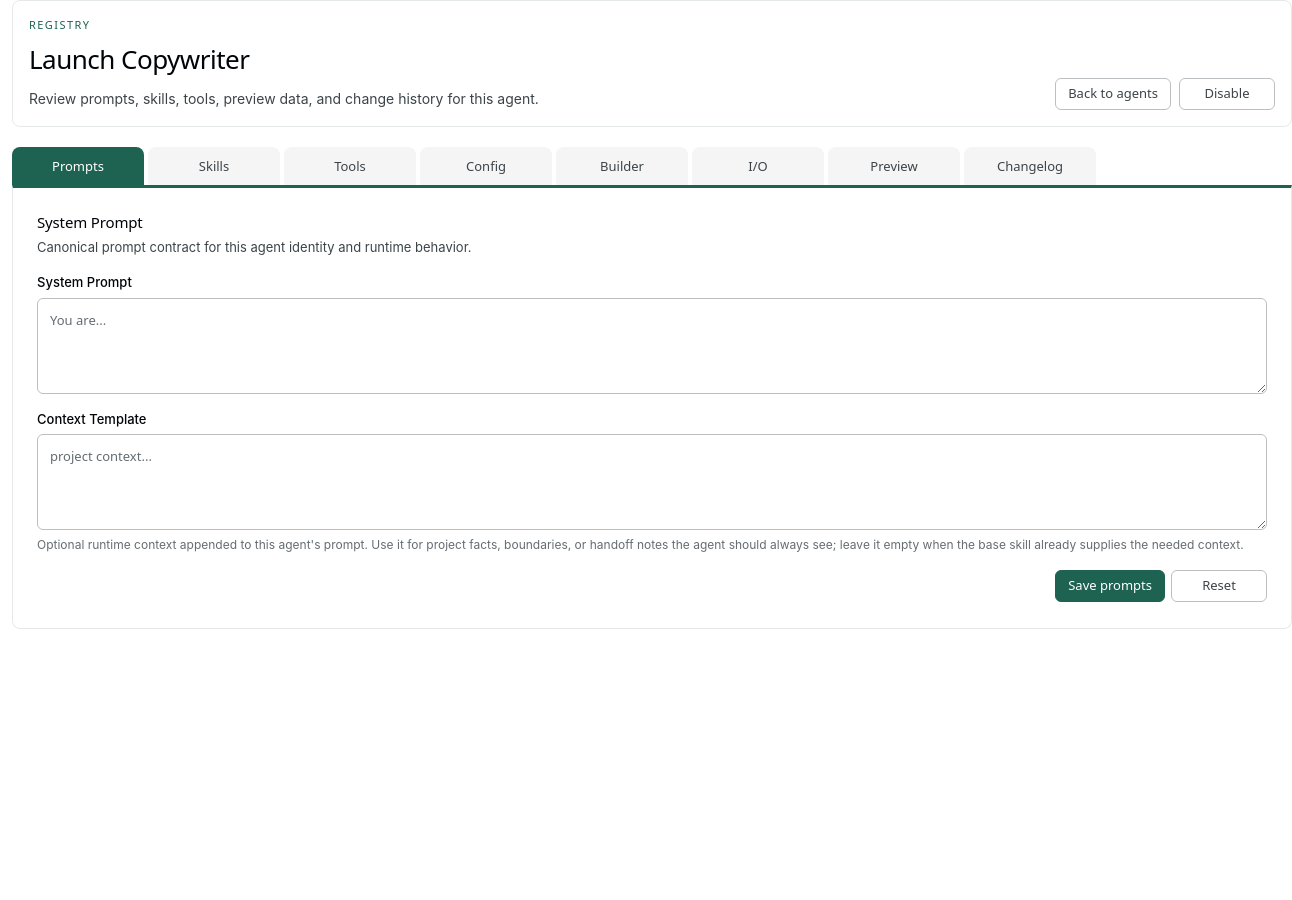
Test: RegistryAgentsDetailPage › persists agent skills through relationship endpoints
Expected: the heading "Launch Copywriter" is shown, [29,41,249,77]
Click the tab "Skills" at (214, 166), box [148,147,280,185]
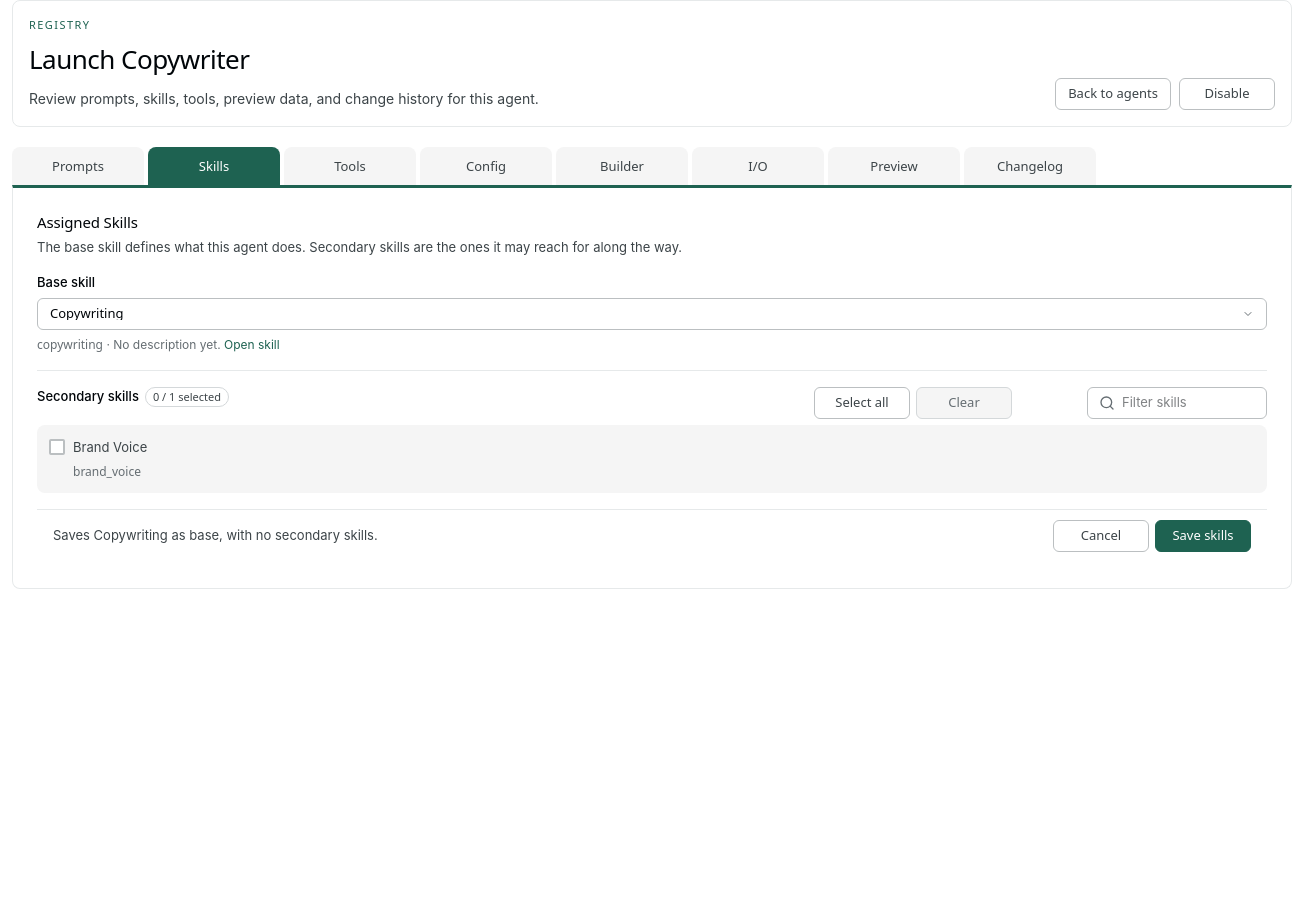
Click the checkbox labelled "Brand Voice brand_voice" at (110, 447), box [49,439,147,480]
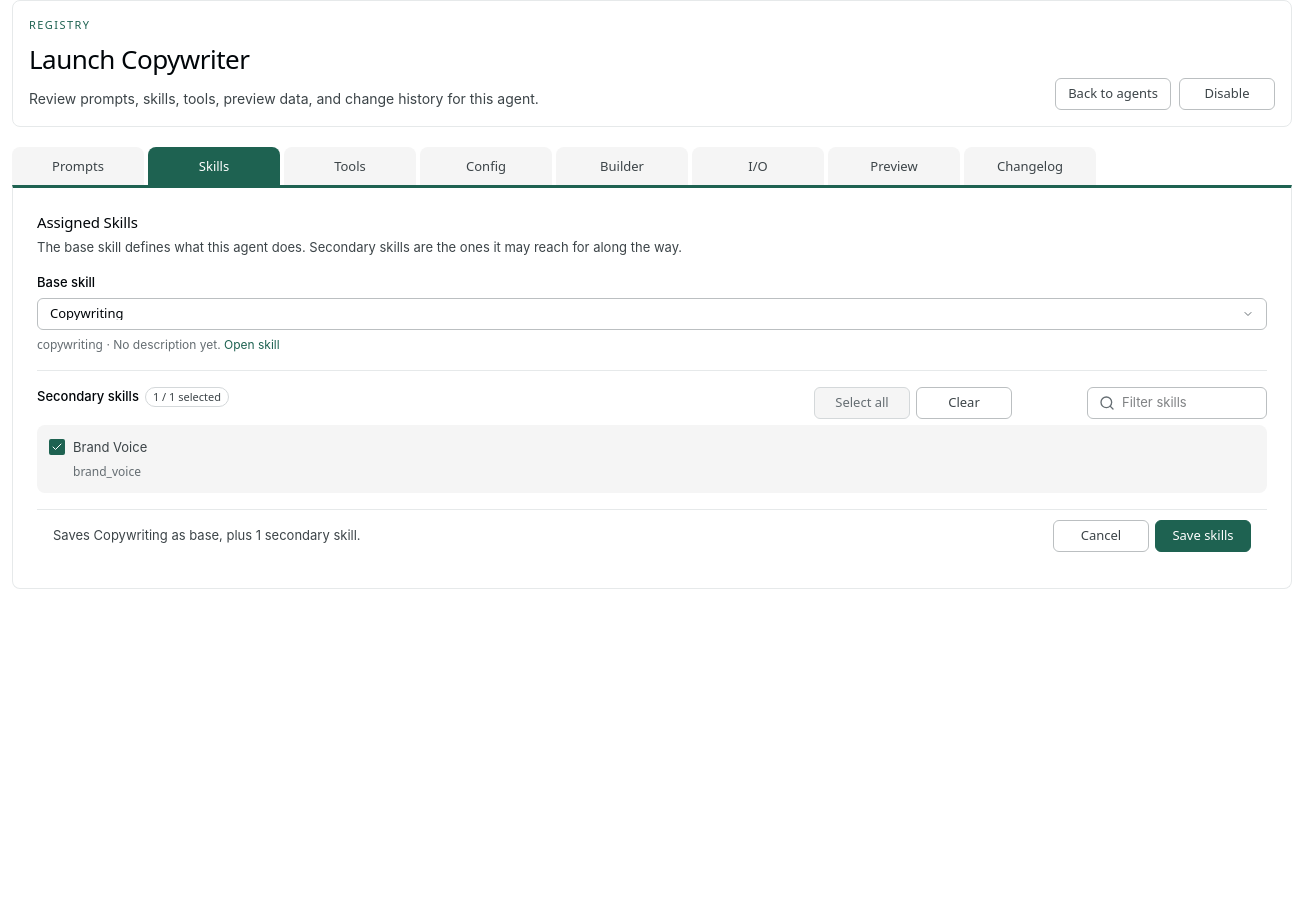
Click the button "Save skills" at (1203, 536), box [1155,520,1251,552]
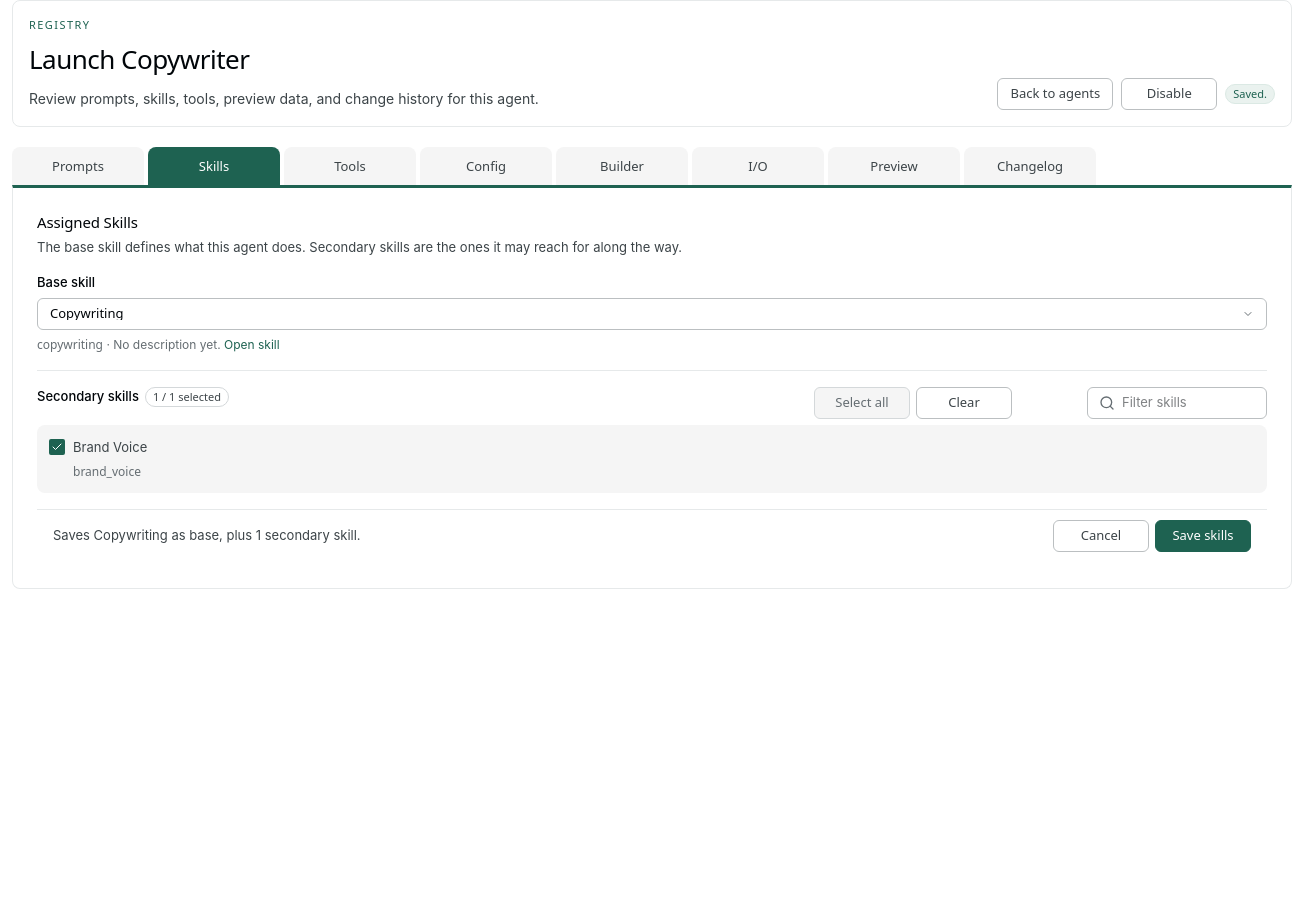
Expected: the text "Saved." is shown, [1225,84,1275,104]
